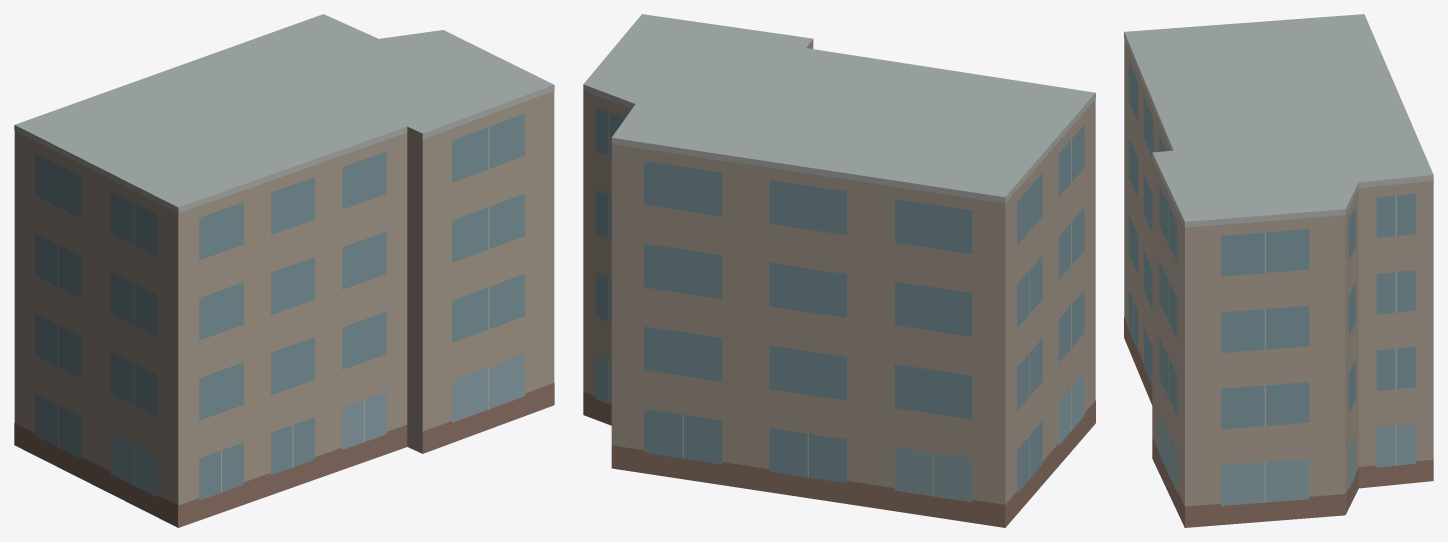
File: survey-upis-32495066.glb
3 renders of one model, left to right at view 1: azimuth 30°, elevation 25°; view 2: azimuth 150°, elevation 25°; view 3: azimuth 270°, elevation 25°, orthographic. The views are drawn at different scales.
Visible parts, largest first — view 1: survey-upis-32495066.tmp; view 2: survey-upis-32495066.tmp; view 3: survey-upis-32495066.tmp.
Part boxes in pixels (x1,y1,x2,y2): survey-upis-32495066.tmp: (14,14,554,527); survey-upis-32495066.tmp: (583,14,1095,527); survey-upis-32495066.tmp: (1124,14,1433,527).
Bounding box in the file's own units: 18.95 × 13 × 11.93.
